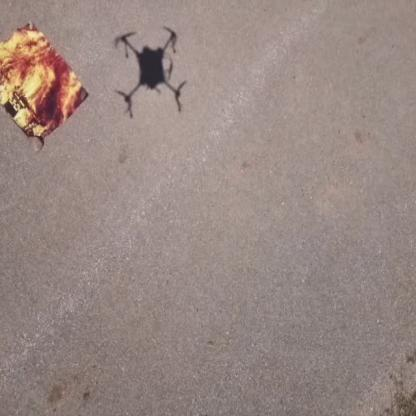fire-poster: (0, 20, 89, 152)
